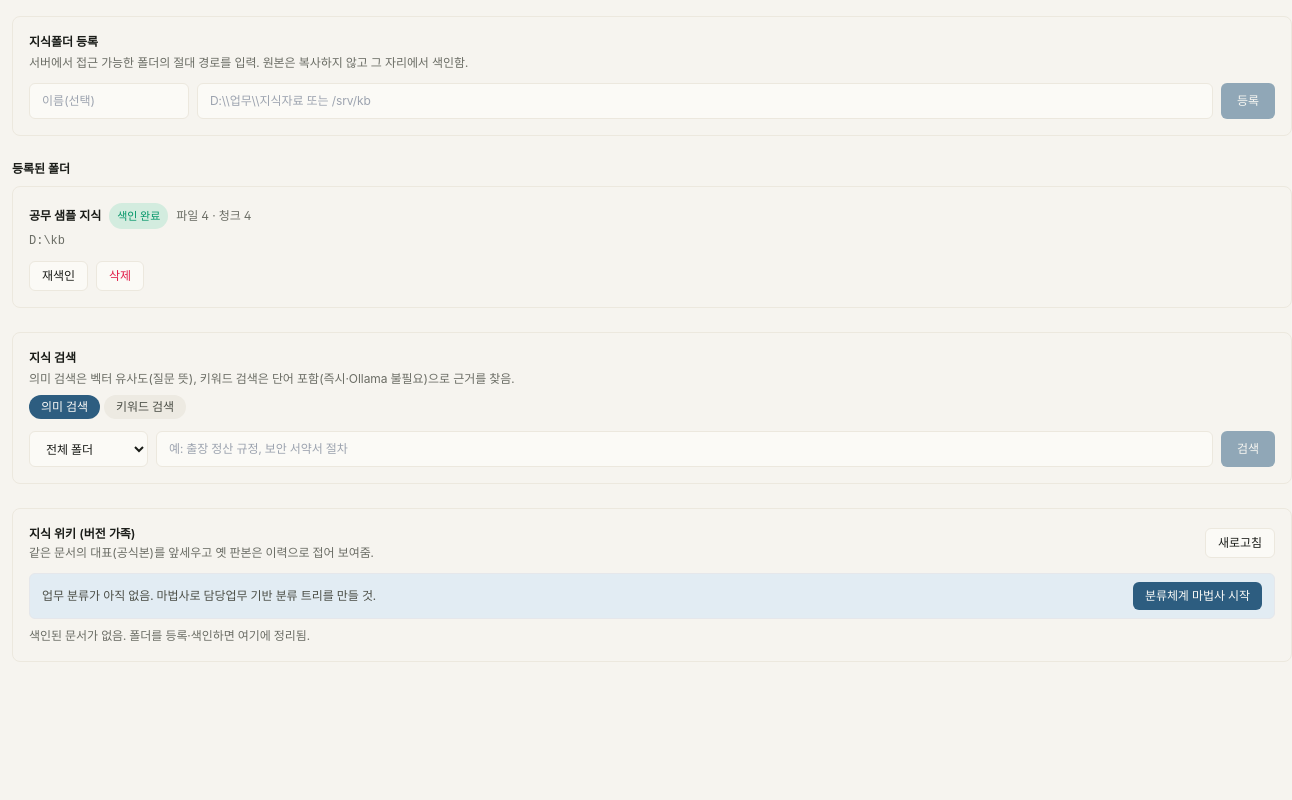
KnowledgePanel — 검색 결과 라벨 › 키워드 모드는 일치 횟수 라벨과 즉시 검색 캡션을 쓴다
Check: the text "공무 샘플 지식" is shown, box [29,207,101,225]
Click the button "키워드 검색". click: (145,407)
box: [104,395,186,419]
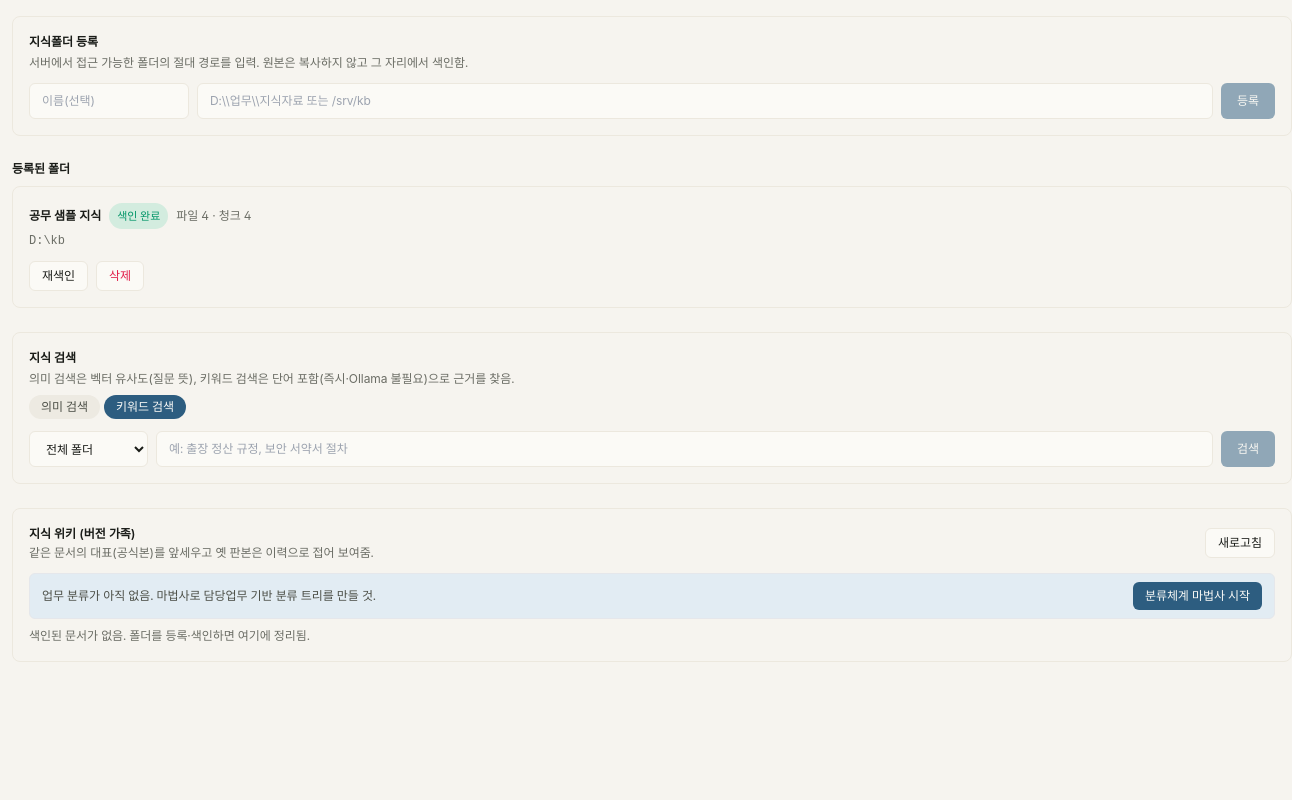
Type "예산" into the field with placeholder "예: 출장 정산 규정, 보안 서약서 절차". click: (684,449)
box: [156,431,1213,467]
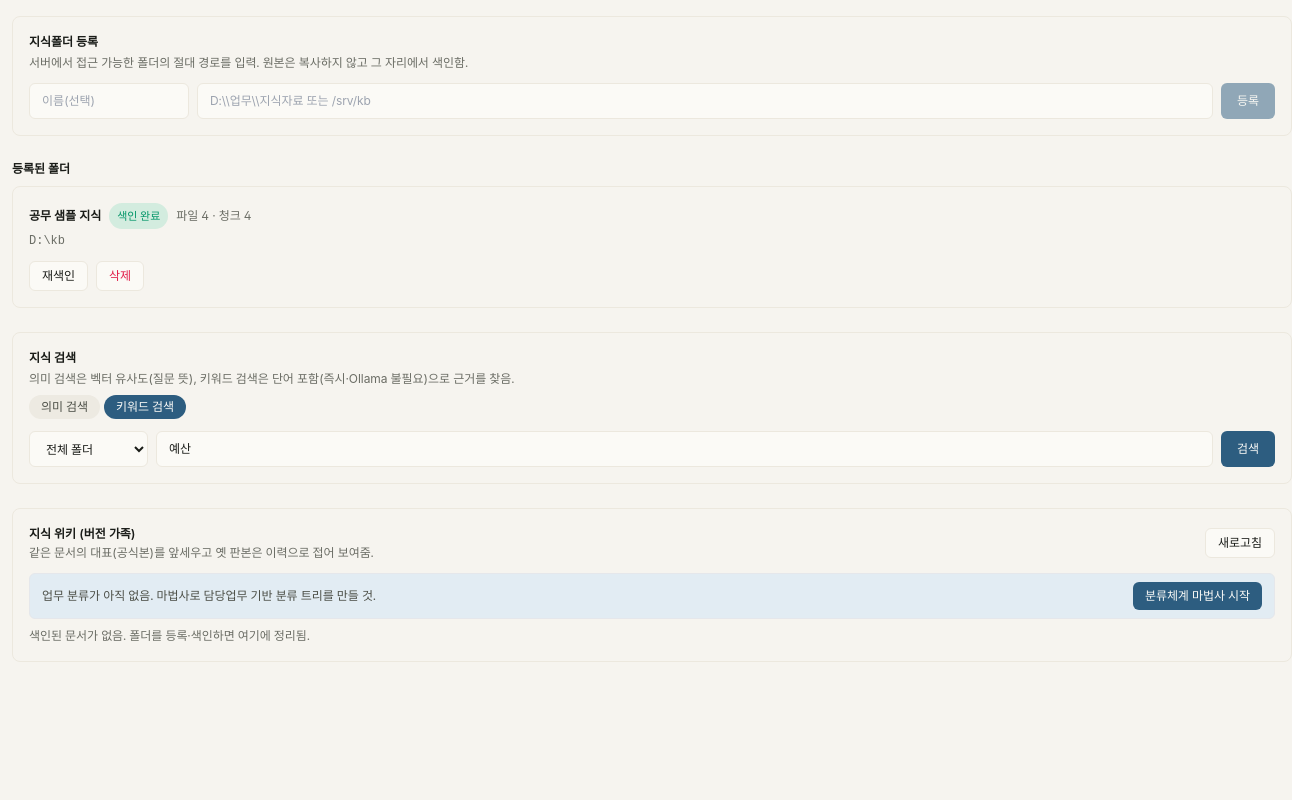
Click the button "검색". click: (1248,449)
box: [1221,431,1275,467]
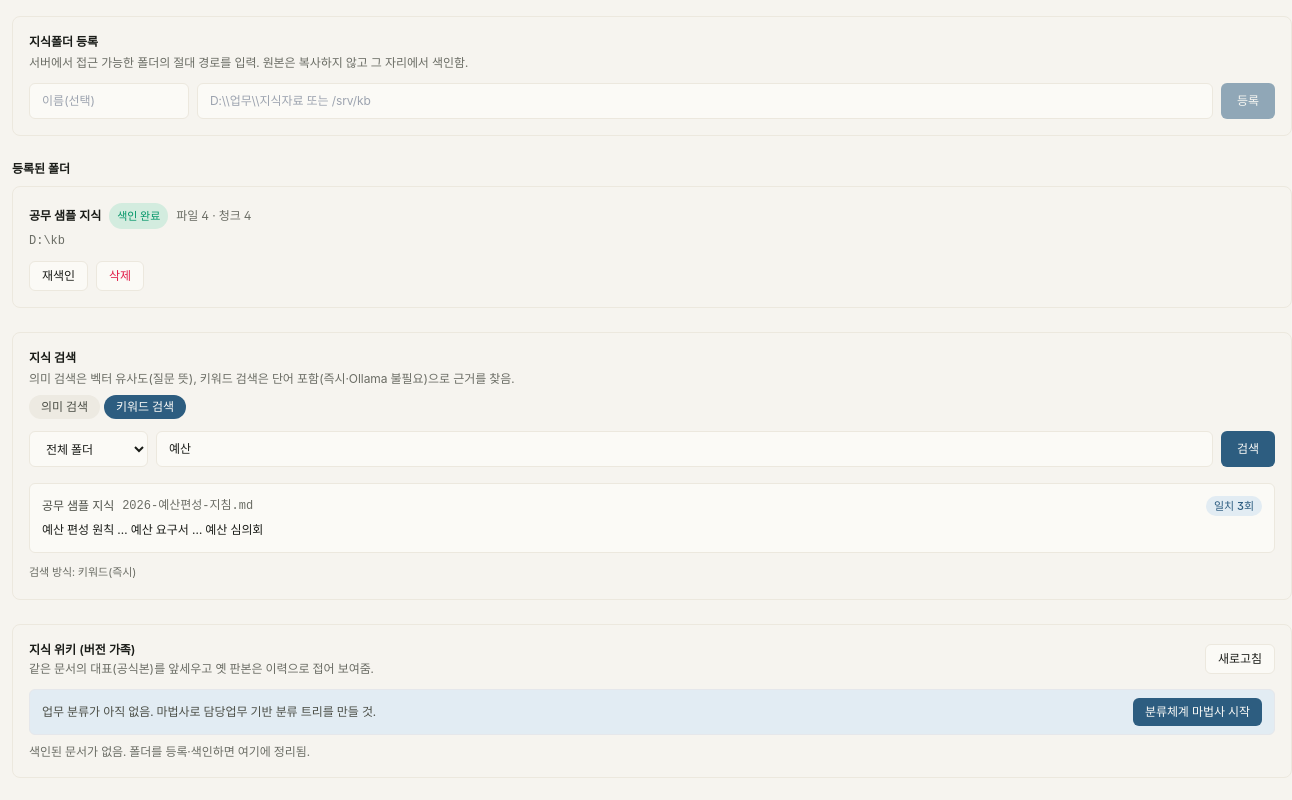
Check: the text "일치 3회" is shown, box [1206,496,1262,516]
Check: the text "검색 방식: 키워드(즉시)" is shown, box [29,564,137,578]
